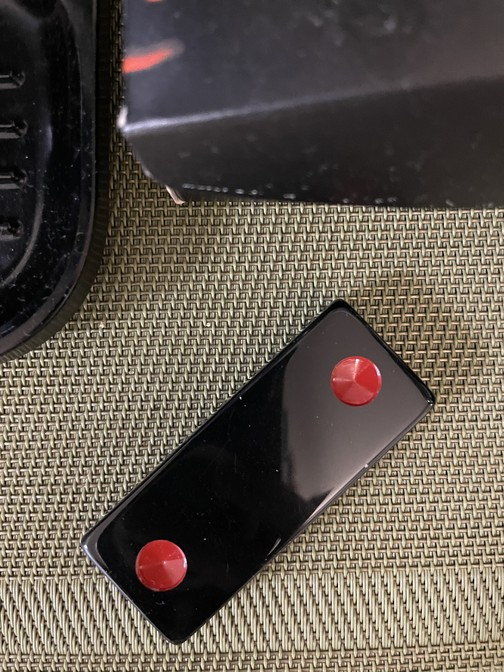earth: (76, 300, 437, 646)
